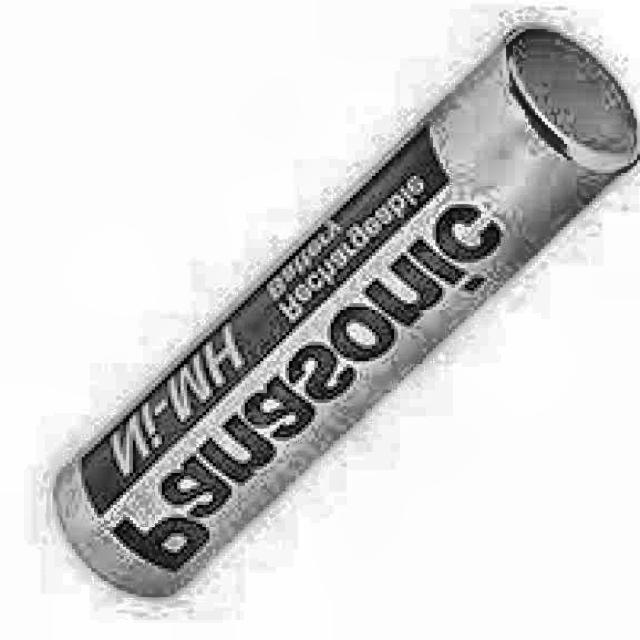Non-Valuable Waste - Batteries: (53, 26, 640, 601)
